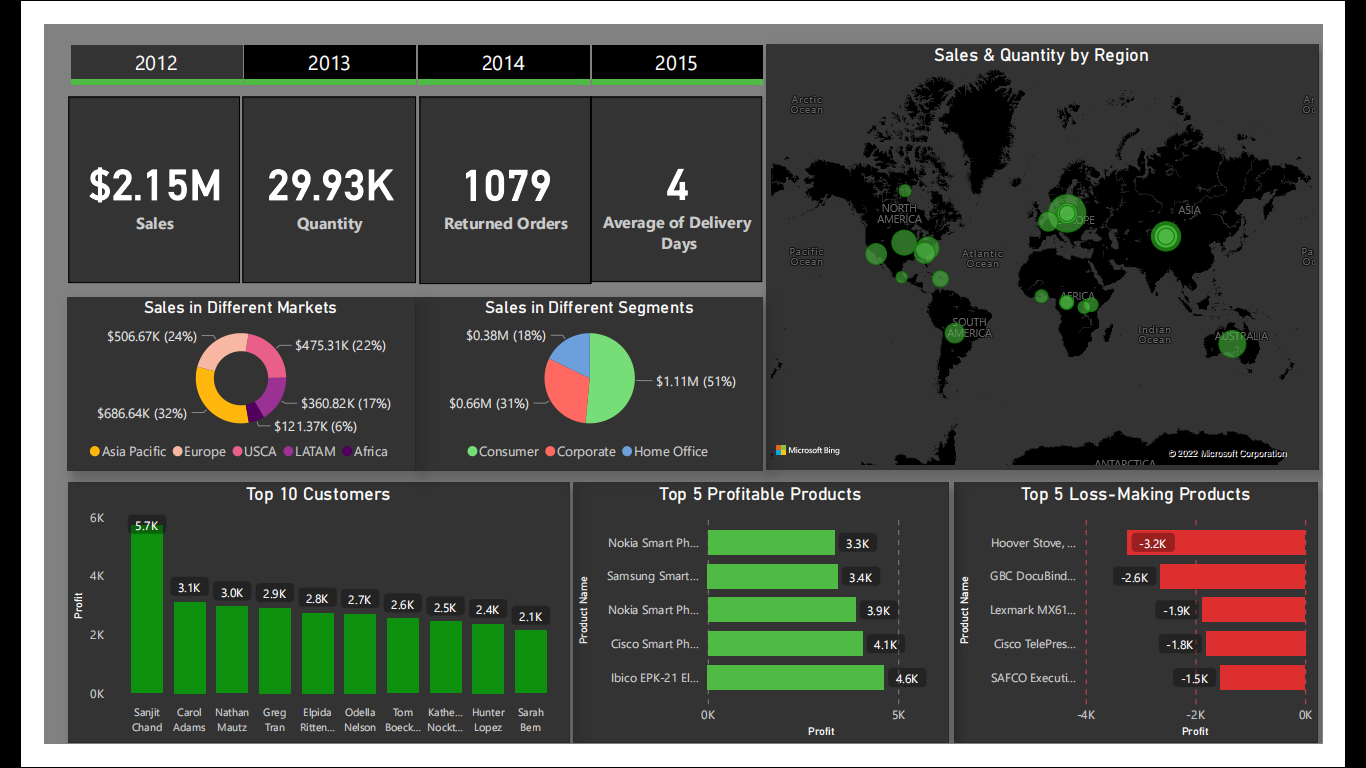

Layout of this report page (visuals, bound fields, positions):
{"tool":"powerbi","page":{"name":"Sales Analysis","canvas":[1280,720],"ordinal":0},"visuals":[{"type":"card","fields":{"Values":["Orders.Sales"]},"box":[23.8,71.5,171.9,187.2],"z":0},{"type":"card","fields":{"Values":["Orders.Quantity"]},"box":[197.4,71.5,173.6,187.2],"z":1000},{"type":"card","fields":{"Values":["Orders.Delivery Days"]},"box":[547,71.9,171.6,186.2],"z":2000},{"type":"map","title":"Sales & Quantity by Region","fields":{"Size":["Orders.Sales"],"Category":["Orders.Region"]},"box":[723.4,18.7,553.2,427.2],"z":3000},{"type":"slicer","fields":{"Values":["Orders.Year"]},"box":[0,13.2,743.5,54.3],"z":4000},{"type":"card","title":"Returned Orders","fields":{"Values":["Returns.Returned Orders"]},"box":[375.4,71.9,171.6,187.7],"z":5000},{"type":"barChart","title":"Top 5 Profitable Products","fields":{"Y":["Orders.Profit"],"Category":["Orders.Product Name"]},"box":[529.8,459.5,376.1,260.5],"z":6000},{"type":"barChart","title":"Top 5 Loss-Making Products","fields":{"Y":["Orders.Profit"],"Category":["Orders.Product Name"]},"box":[911.7,459.5,362.9,260.5],"z":7000},{"type":"pieChart","title":"Sales in Different Segments","fields":{"Category":["Orders.Segment"],"Y":["Orders.Sales"]},"box":[372.8,272.3,347.2,173.6],"z":8000},{"type":"donutChart","title":"Sales in Different Markets","fields":{"Y":["Orders.Sales"],"Category":["Orders.Market"]},"box":[22.1,272.3,348.9,173.6],"z":9000},{"type":"columnChart","title":"Top 10 Customers","fields":{"Category":["Orders.Customer Name"],"Y":["Orders.Profit"]},"box":[23.4,459.5,502,260.5],"z":10000}]}

Visuals, with their boxes in screenshot pixels (x1, y1, x2, y2), scaled from the page's 1280x720 canvas onto the 1366x768 screenshot:
card - Orders.Sales: (25,76,209,276)
card - Orders.Quantity: (211,76,396,276)
card - Orders.Delivery Days: (584,77,767,275)
"Sales & Quantity by Region" map: (772,20,1362,476)
slicer - Orders.Year: (0,14,793,72)
"Returned Orders" card: (401,77,584,277)
"Top 5 Profitable Products" barChart: (565,490,967,767)
"Top 5 Loss-Making Products" barChart: (973,490,1360,767)
"Sales in Different Segments" pieChart: (398,290,768,476)
"Sales in Different Markets" donutChart: (24,290,396,476)
"Top 10 Customers" columnChart: (25,490,561,767)
